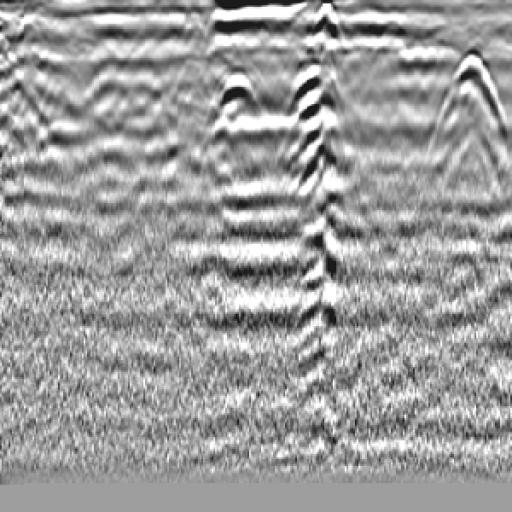metalic: (281, 33, 364, 391)
nonmetalic: (427, 48, 512, 207), (187, 54, 283, 165)
